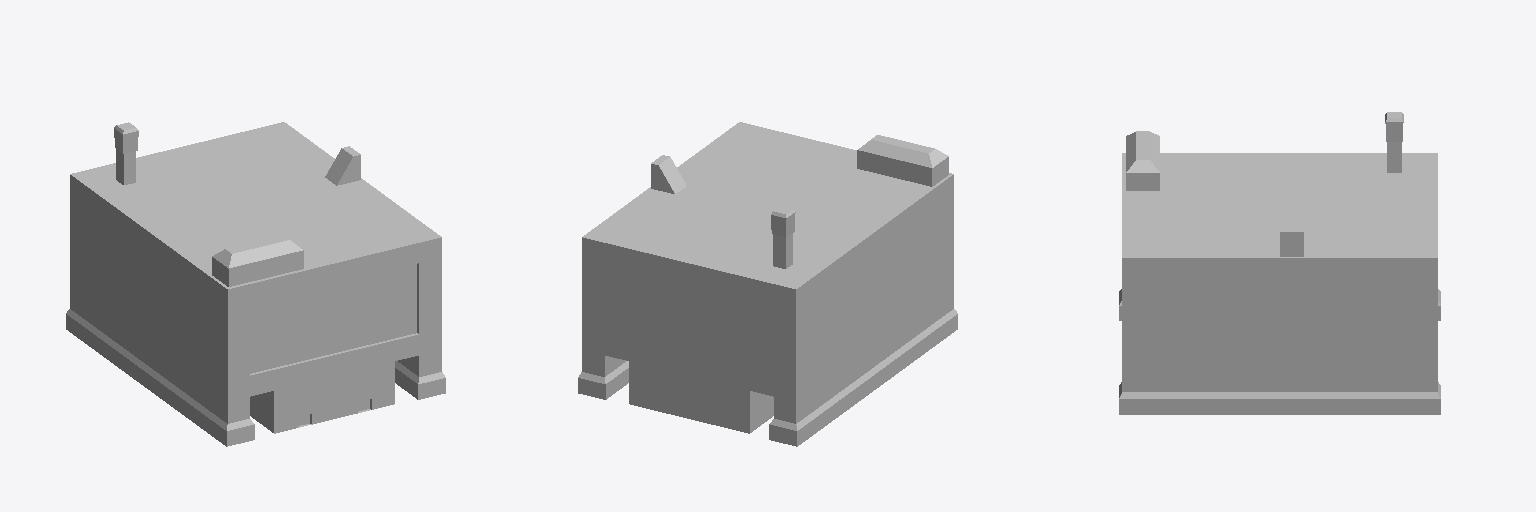
File: Prédio.obj
3 views of the same model, side by side, from view 1: azimuth 30°, elevation 25°; view 2: azimuth 150°, elevation 25°; view 3: azimuth 270°, elevation 25° (orthographic).
Visible parts, largest first — view 1: Cube_Cube.003; view 2: Cube_Cube.003; view 3: Cube_Cube.003.
Boxes of the visible parts, x1,y1,x2,y2 form: Cube_Cube.003: [66, 122, 445, 446]; Cube_Cube.003: [578, 122, 957, 446]; Cube_Cube.003: [1119, 112, 1440, 414].
Bounding box in the file's own units: 62.04 × 56.82 × 78.69.